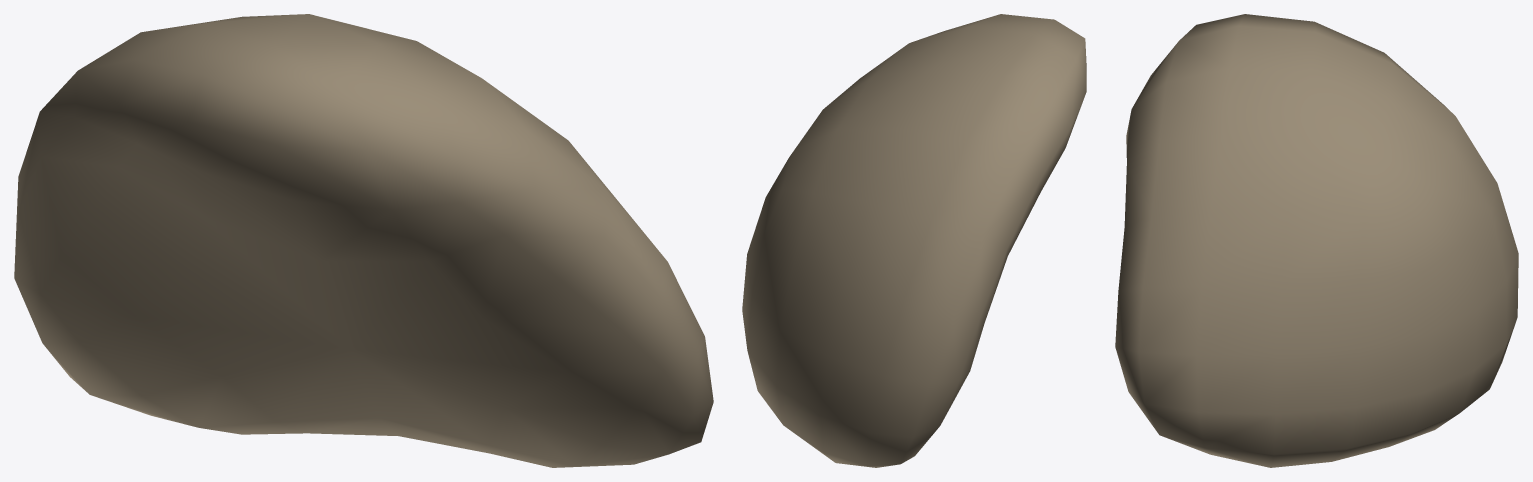
The model's file is rock02.fbx.
The picture shows the model from 3 angles, left to right: view 1: azimuth 30°, elevation 25°; view 2: azimuth 150°, elevation 25°; view 3: azimuth 270°, elevation 25°; orthographic projection. The views are drawn at different scales.
Visible parts, largest first — view 1: rock; view 2: rock; view 3: rock.
Part boxes in pixels (left/top/right/bottom): rock: left=14, top=14, right=713, bottom=467; rock: left=742, top=14, right=1086, bottom=467; rock: left=1115, top=14, right=1518, bottom=467.
Bounding box in the file's own units: 0.4596 × 0.4765 × 0.5022.
